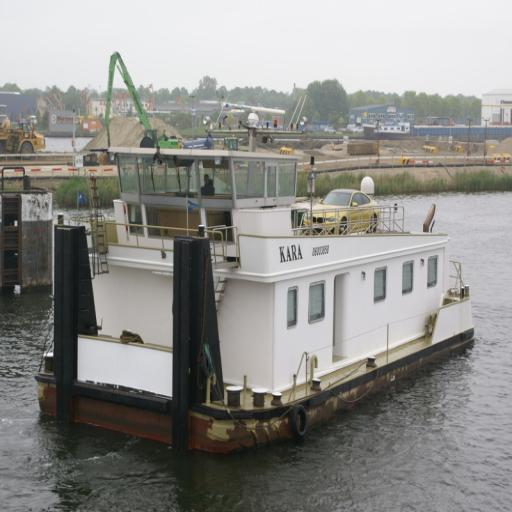tugboat: (33, 89, 478, 468)
